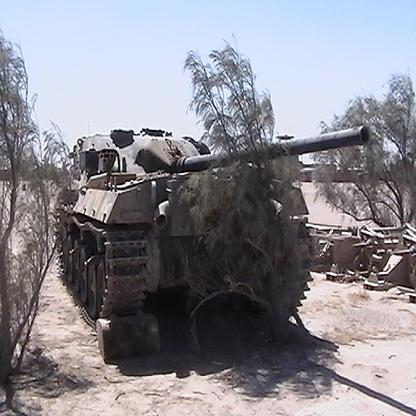Tank: (53, 126, 377, 362)
